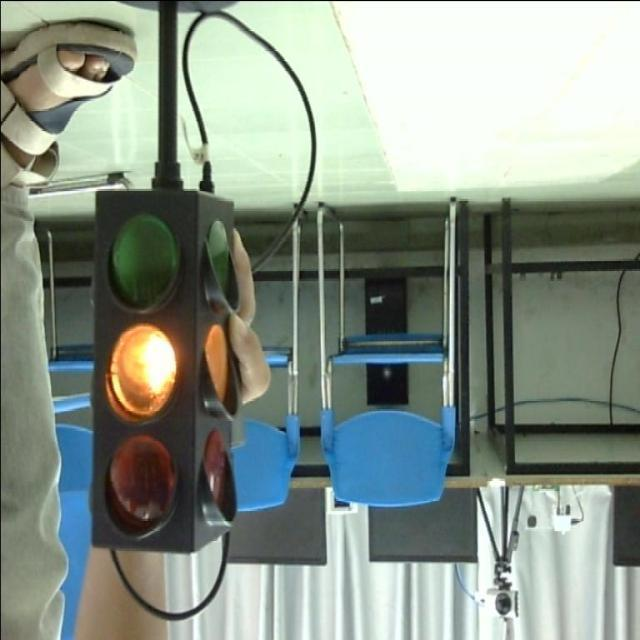yellow_light: (90, 189, 253, 550)
